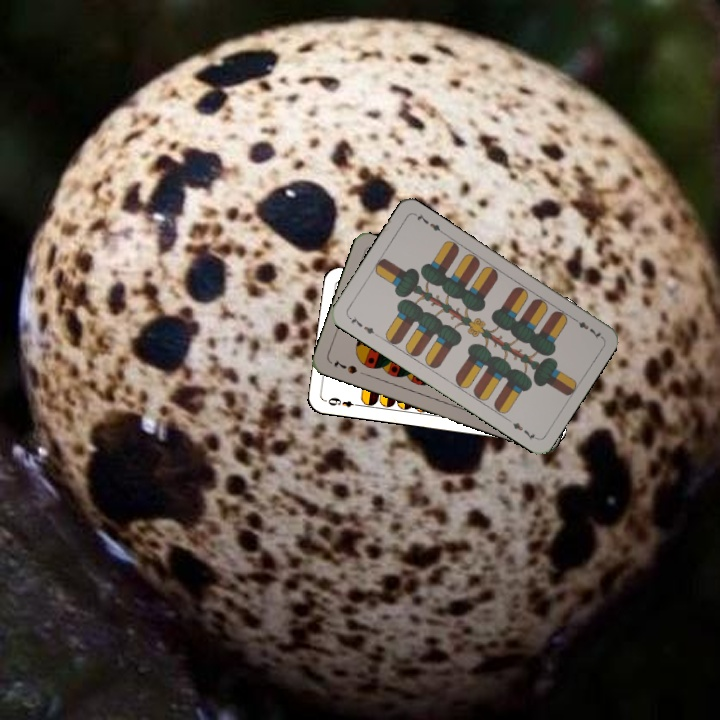E7: (568, 313, 604, 342), (344, 312, 380, 339)
E9: (324, 393, 363, 410)
S7: (330, 355, 360, 376)
